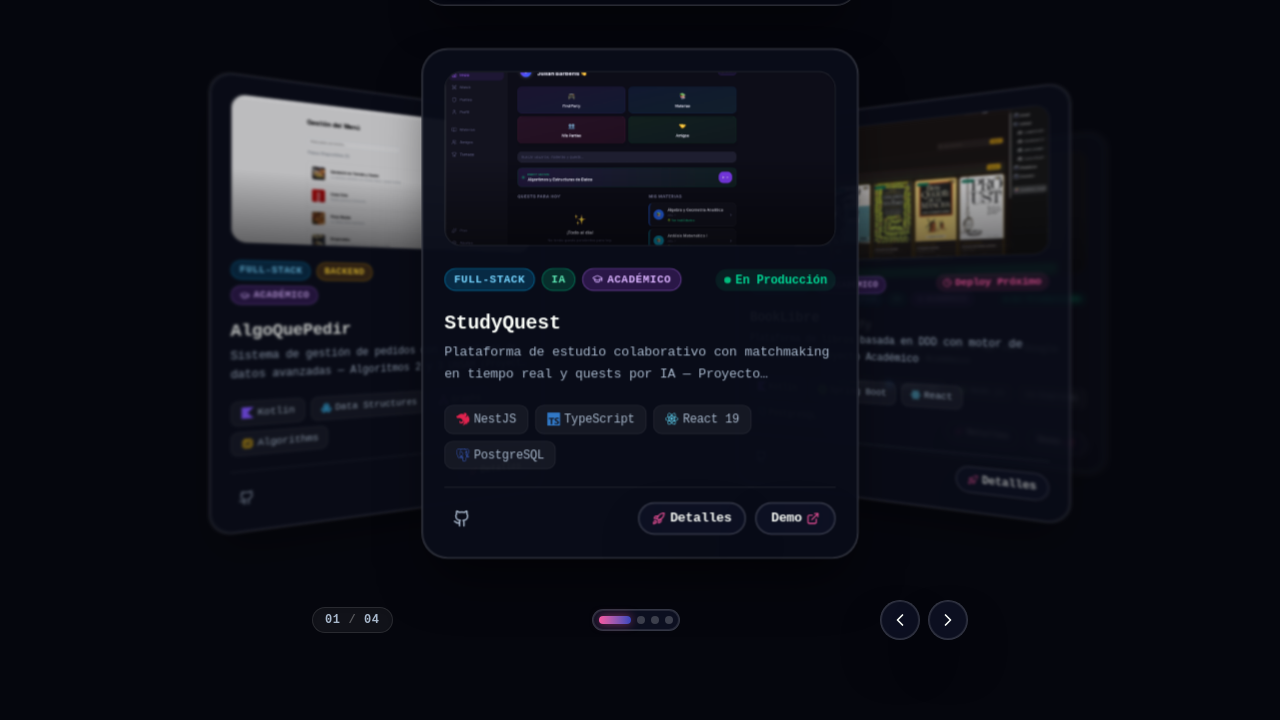
Scenario: Projects Component (src/components/Projects.tsx) › ProjectModal Opening and Closing › opens ProjectModal when clicking 'Detalles' on active project card and closes on close button
This screenshot has width=1280, height=720.
(page scrolled)
// Click the first one
Step 1. Click the button "Detalles" below "NestJS" → click(692, 518), box [638,502,746,534]
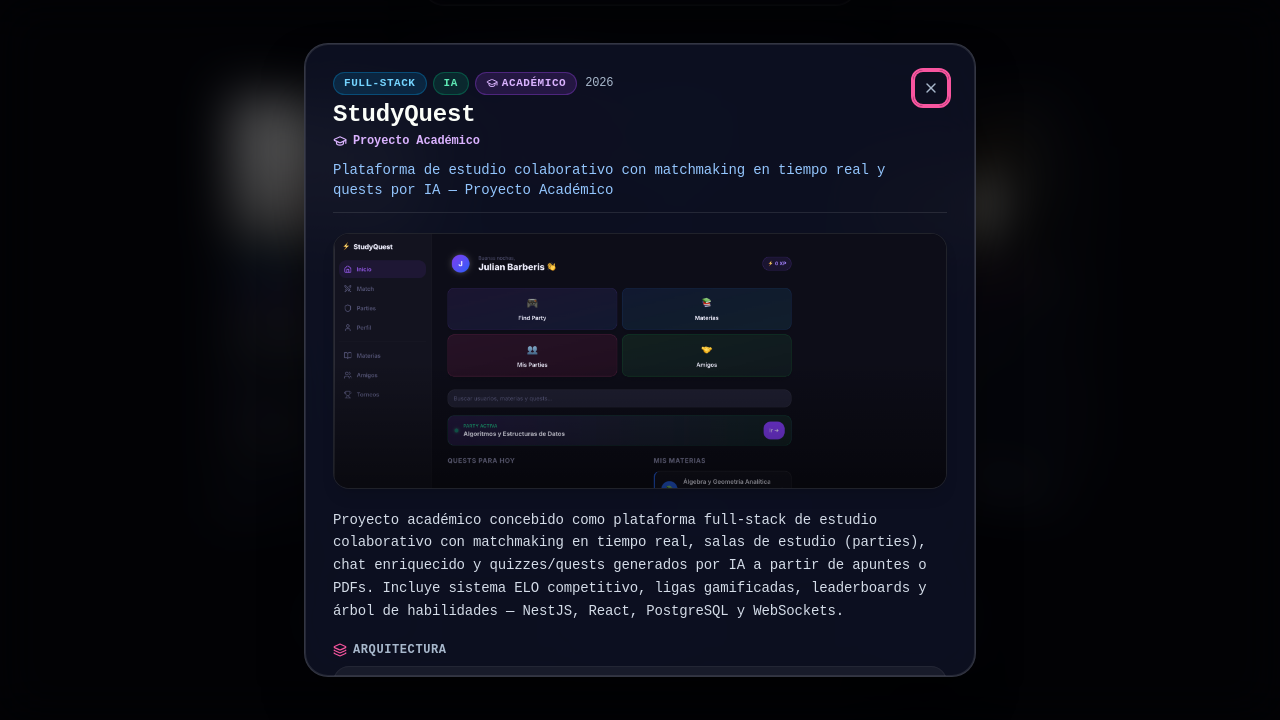
Expected: the dialog is shown
Expected: the text "Arquitectura" is shown, [353,642,447,658]
// Close the dialog using close button
Step 2. Click the button named "Close" → click(931, 88), box [915,72,947,104]
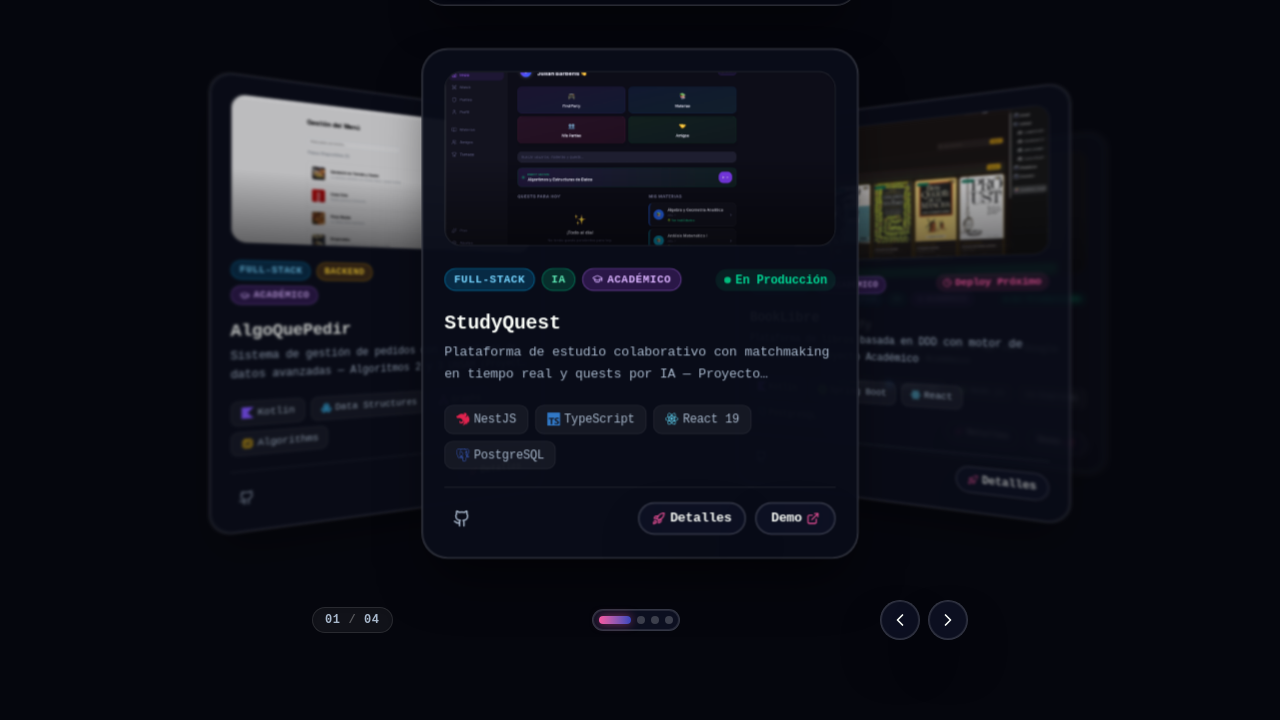
Expected: the dialog is gone
